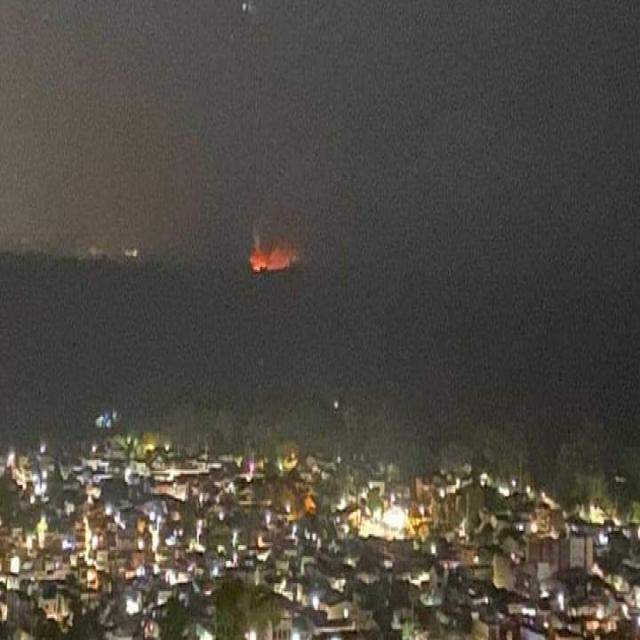Fire: (248, 246, 294, 272)
